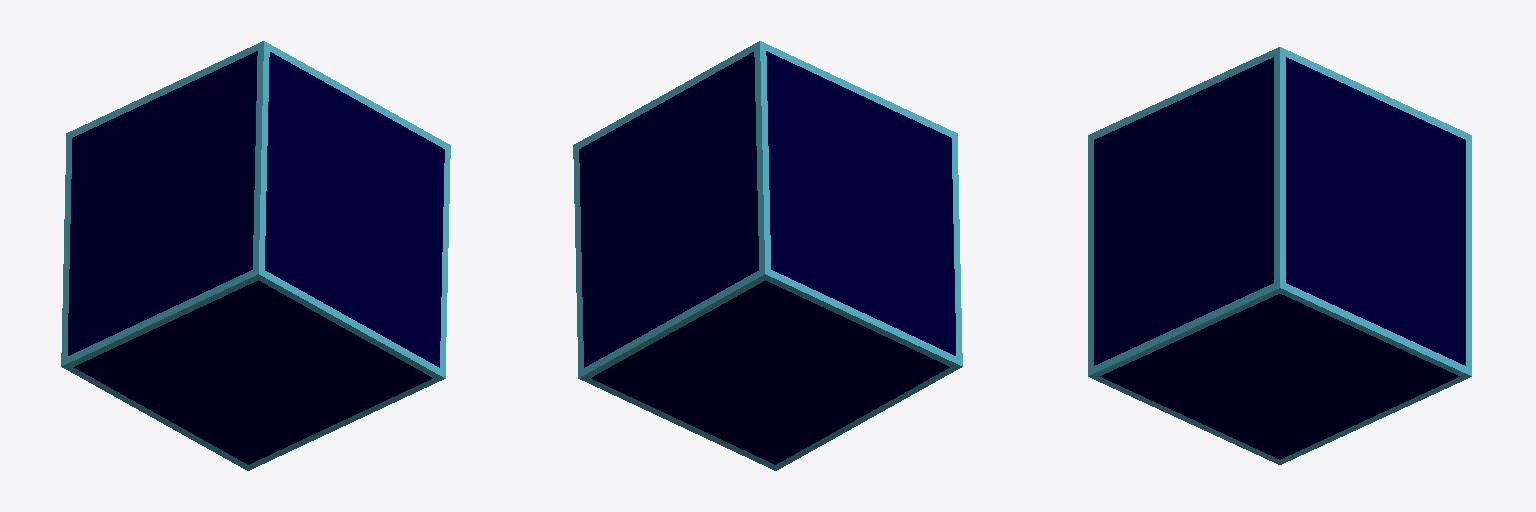
3 views of the same model, side by side, from view 1: azimuth 30°, elevation 25°; view 2: azimuth 150°, elevation 25°; view 3: azimuth 270°, elevation 25° (orthographic).
Visible parts, largest first — view 1: cube; view 2: cube; view 3: cube.
Boxes of the visible parts, <box> form: cube: <box>61,41,450,470</box>; cube: <box>573,41,962,470</box>; cube: <box>1088,47,1471,464</box>.
Size of the model in its own units: 1.65 by 1.73 by 1.41.
1 materials, 1 textured.